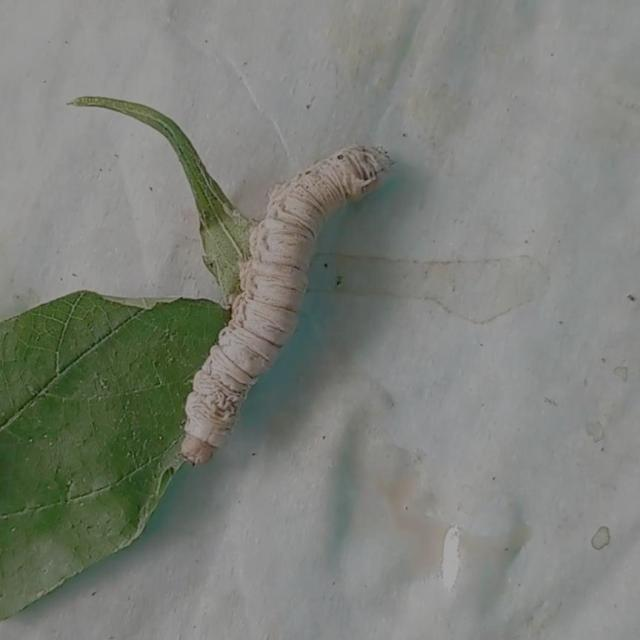Grasserie: (162, 131, 402, 468)
